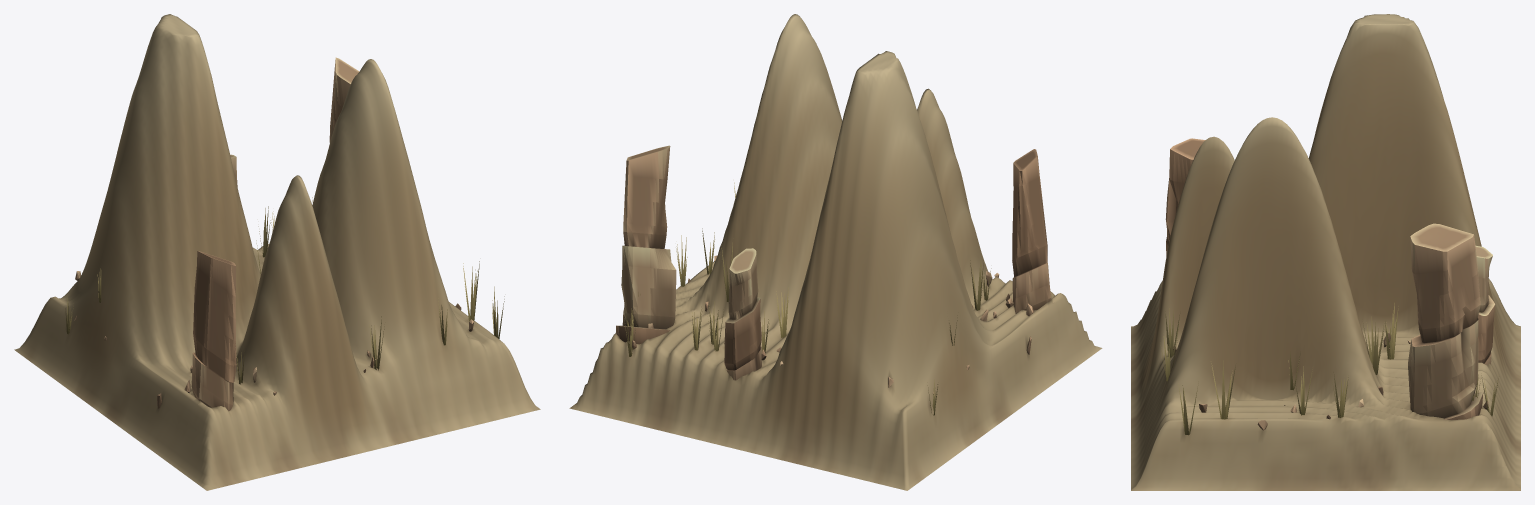
File: dunes.glb
3 renders of one model, left to right at view 1: azimuth 30°, elevation 25°; view 2: azimuth 150°, elevation 25°; view 3: azimuth 270°, elevation 25°, orthographic.
Visible parts, largest first — view 1: dunes; view 2: dunes; view 3: dunes.
Boxes of the visible parts, x1,y1,x2,y2 form: dunes: (14, 14, 540, 490); dunes: (569, 14, 1102, 490); dunes: (1131, 14, 1520, 490).
Size of the model in its own units: 1 by 1 by 1.
